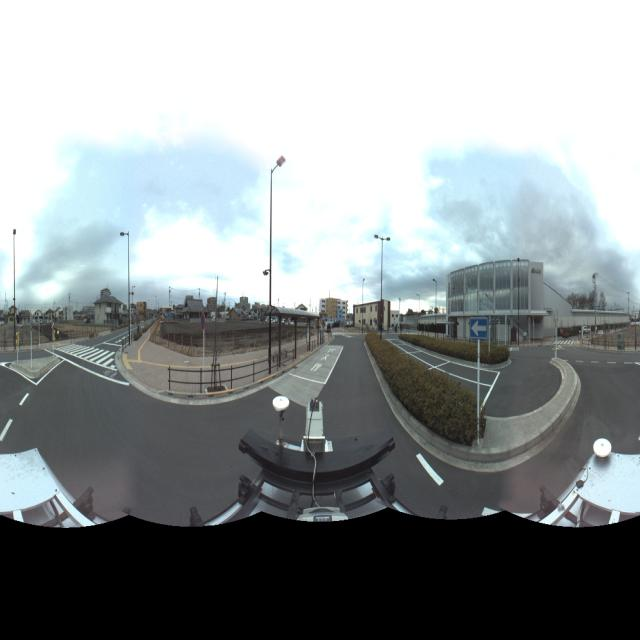b_1: (444, 259, 550, 350), (352, 292, 392, 334), (315, 293, 356, 330), (94, 289, 126, 332), (182, 294, 212, 325), (134, 295, 152, 332), (235, 290, 251, 328), (206, 294, 222, 322)
